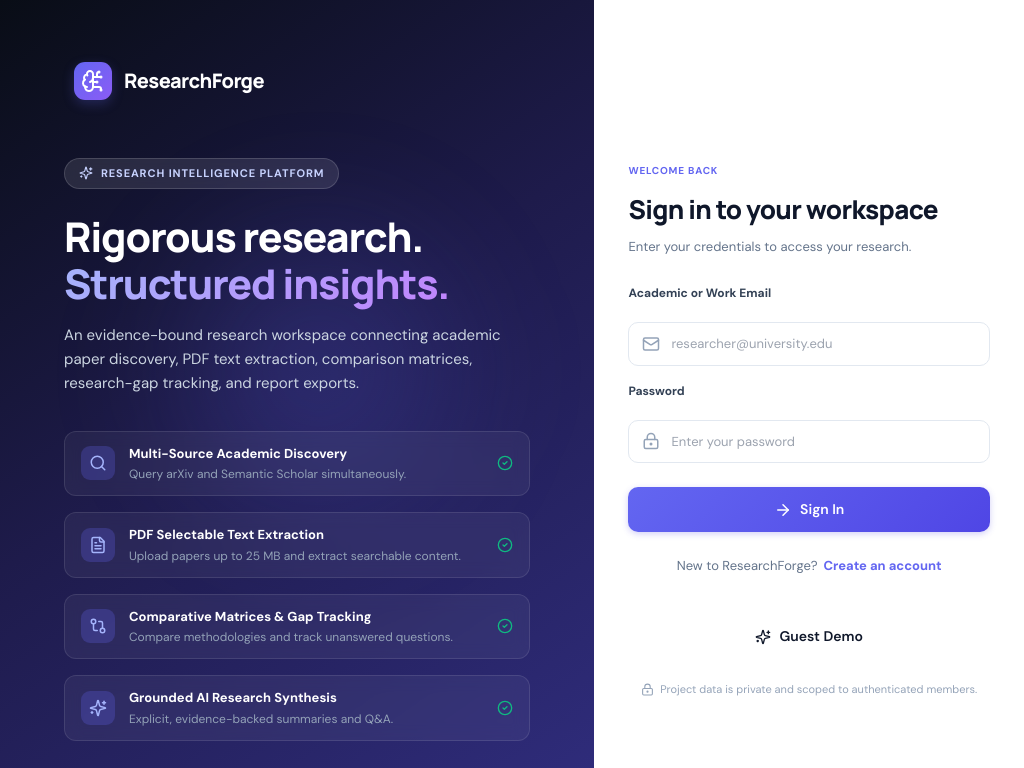
App Component › toggles between Sign In and Create Account modes
Click the button "Create an account" at (883, 566), box [824, 556, 942, 576]
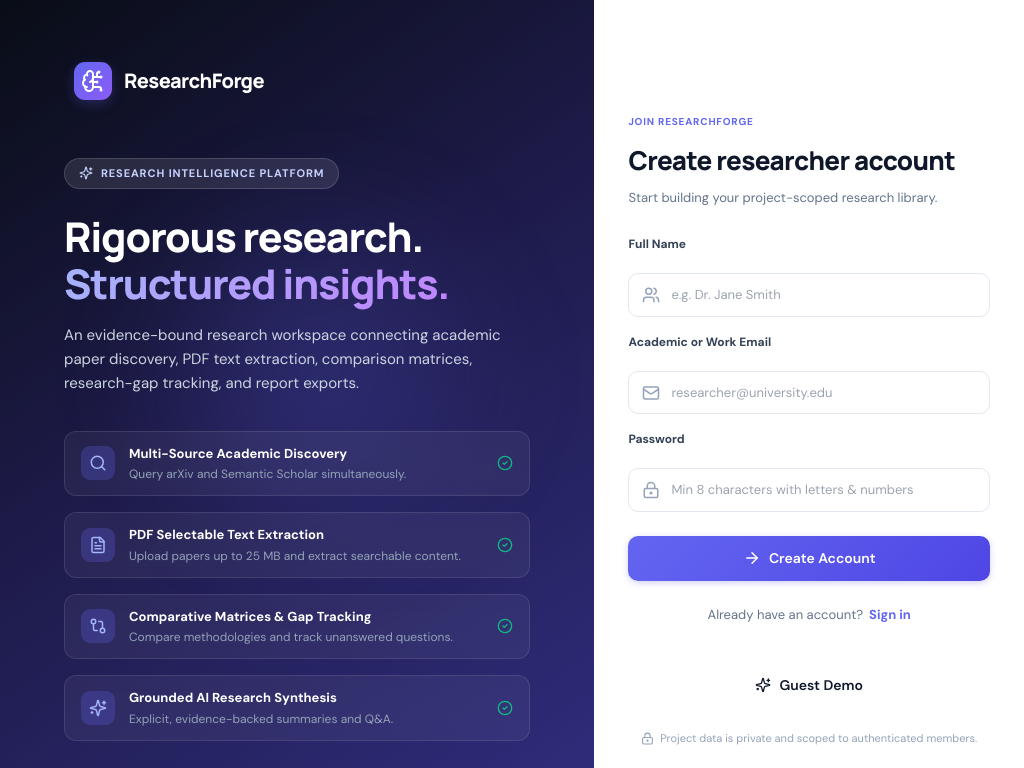
Now the heading "Create researcher account" is shown, box [628, 141, 990, 180]
Now the field labelled "Full Name" is shown, box [628, 274, 990, 317]
Click the button "Sign in" at (890, 615), box [869, 605, 911, 624]
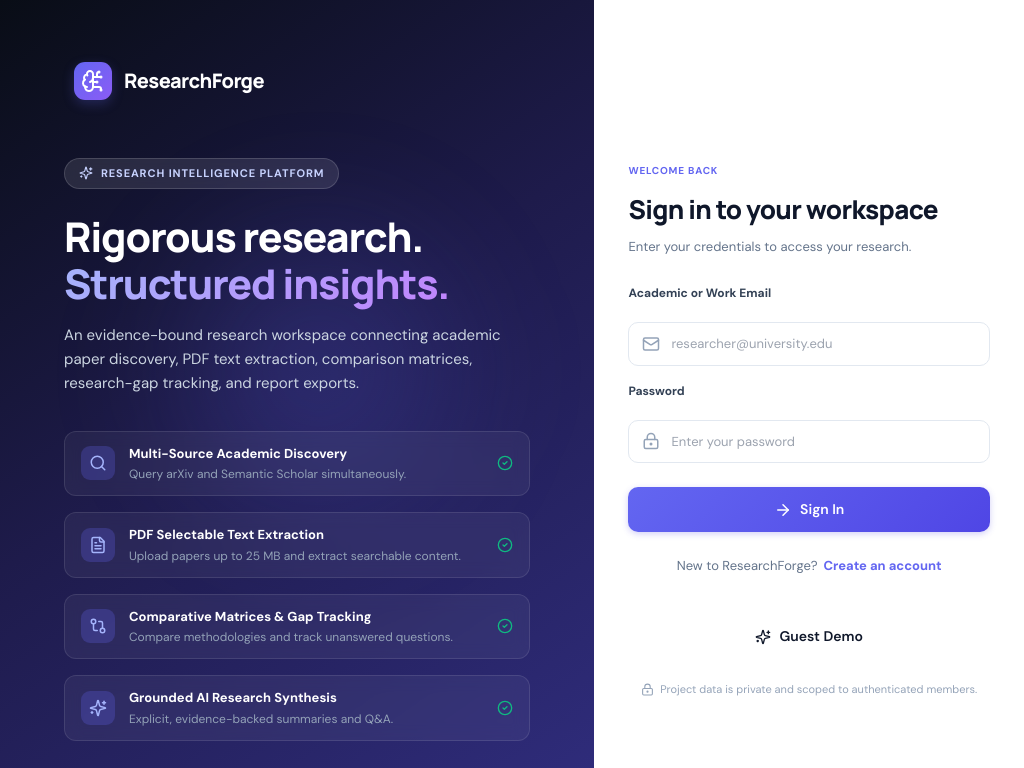
Now the heading "Sign in to your workspace" is shown, box [628, 190, 990, 229]
